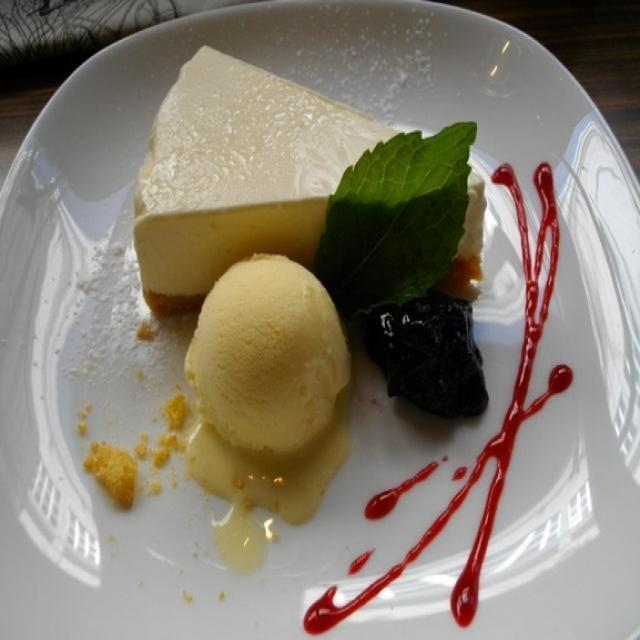Rare cheese cake: (107, 24, 559, 327)
